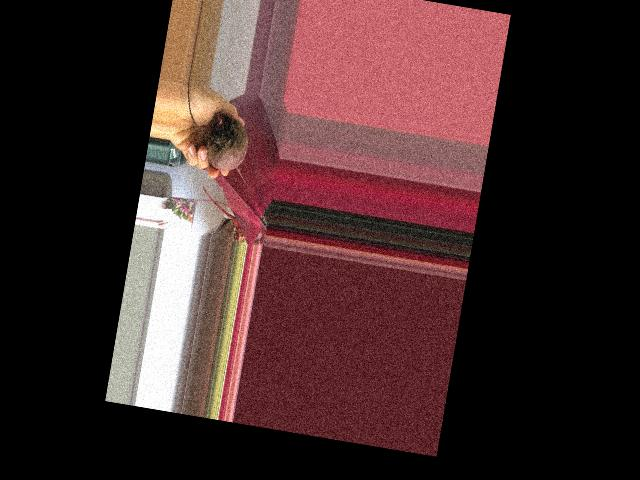beet: (172, 84, 263, 186)
